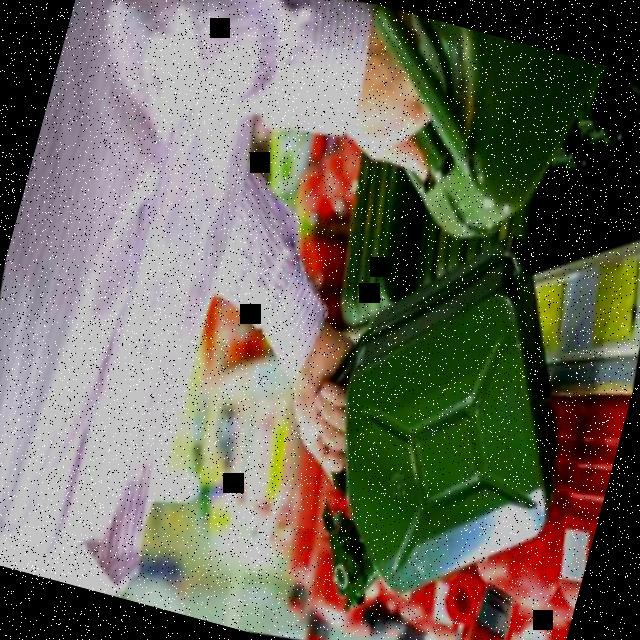chemical_plastic_gallon: (267, 202, 631, 640)
